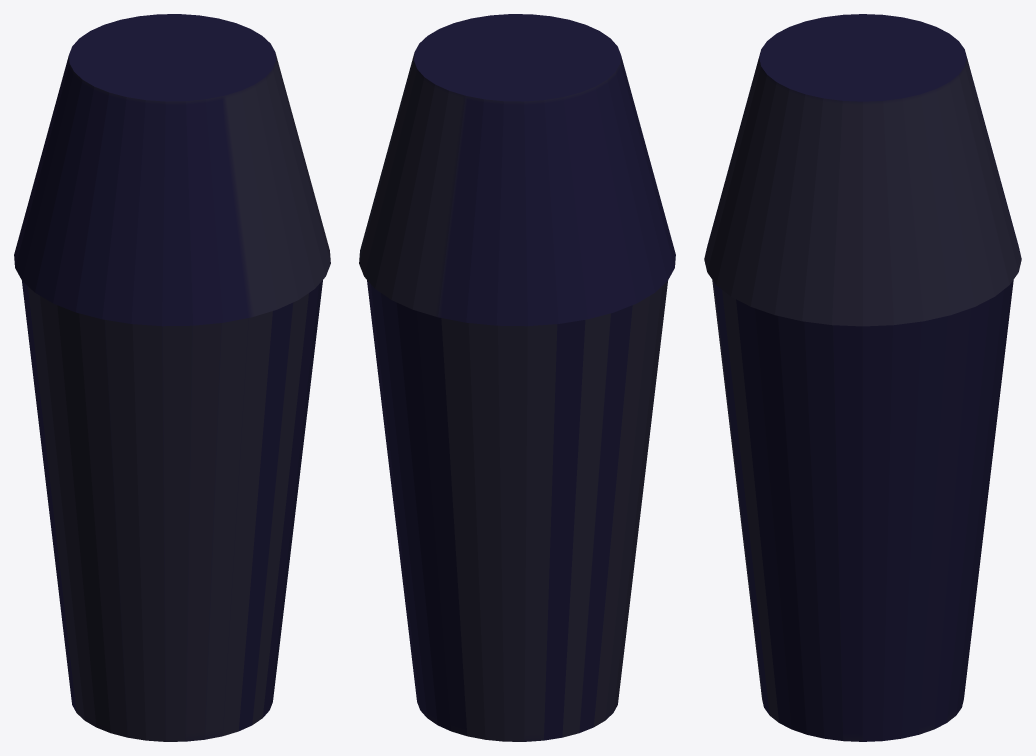
File: shakerclosed.fbx
3 views of the same model, side by side, from view 1: azimuth 30°, elevation 25°; view 2: azimuth 150°, elevation 25°; view 3: azimuth 270°, elevation 25° (orthographic).
Parts seen in each view (by area): view 1: Cylinder, Cylinder.001; view 2: Cylinder, Cylinder.001; view 3: Cylinder, Cylinder.001.
Part boxes in pixels (<box>): Cylinder: <box>22,280,322,741</box>; Cylinder.001: <box>14,14,330,326</box>; Cylinder: <box>367,280,667,741</box>; Cylinder.001: <box>359,14,675,326</box>; Cylinder: <box>712,280,1013,741</box>; Cylinder.001: <box>704,14,1021,326</box>.
Size of the model in its own units: 715 by 1594 by 715.
